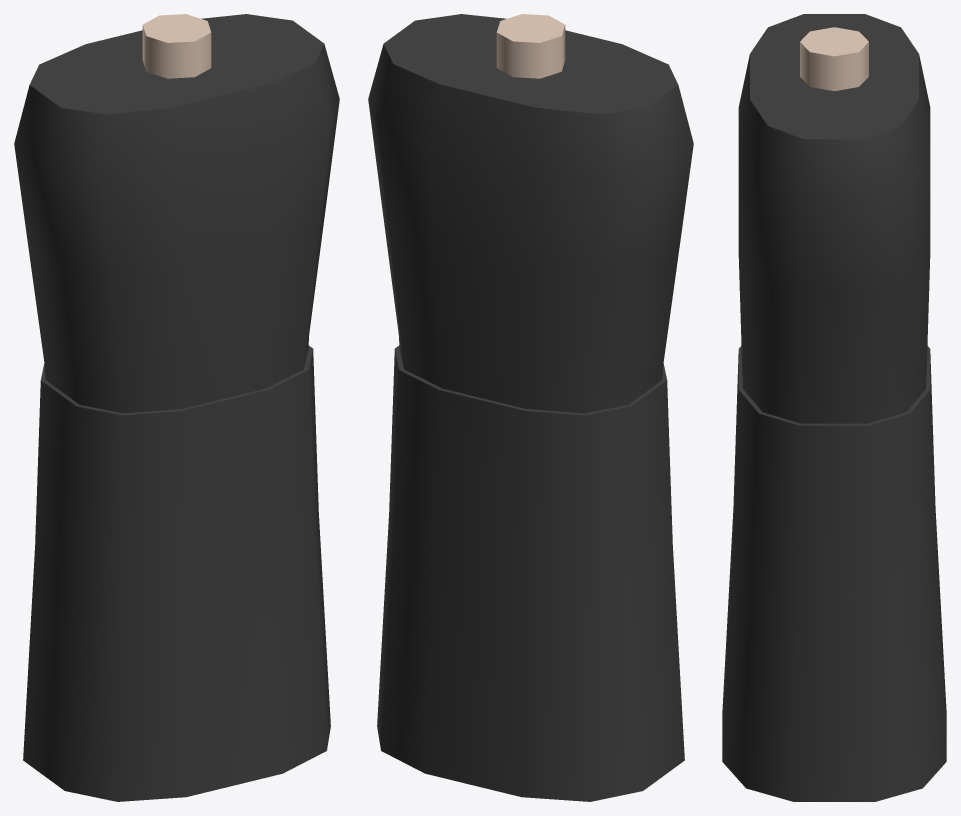
The model's file is torso_coat.glb.
3 renders of one model, left to right at view 1: azimuth 30°, elevation 25°; view 2: azimuth 150°, elevation 25°; view 3: azimuth 270°, elevation 25°, orthographic. The views are drawn at different scales.
Visible parts, largest first — view 1: torso_coat; view 2: torso_coat; view 3: torso_coat.
Part boxes in pixels (x1,y1,x2,y2): torso_coat: (14, 14, 339, 801); torso_coat: (368, 14, 693, 801); torso_coat: (722, 14, 946, 801).
Size of the model in its own units: 0.4245 by 1 by 0.2921.
